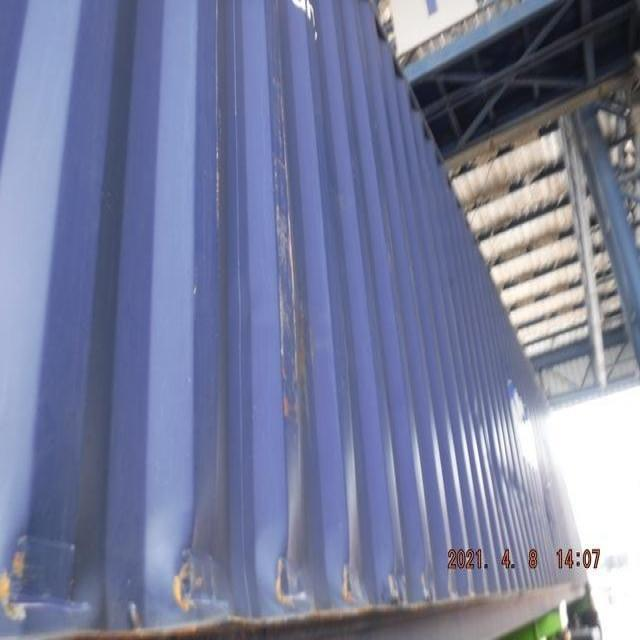dent: (2, 520, 437, 618), (491, 458, 530, 504)
